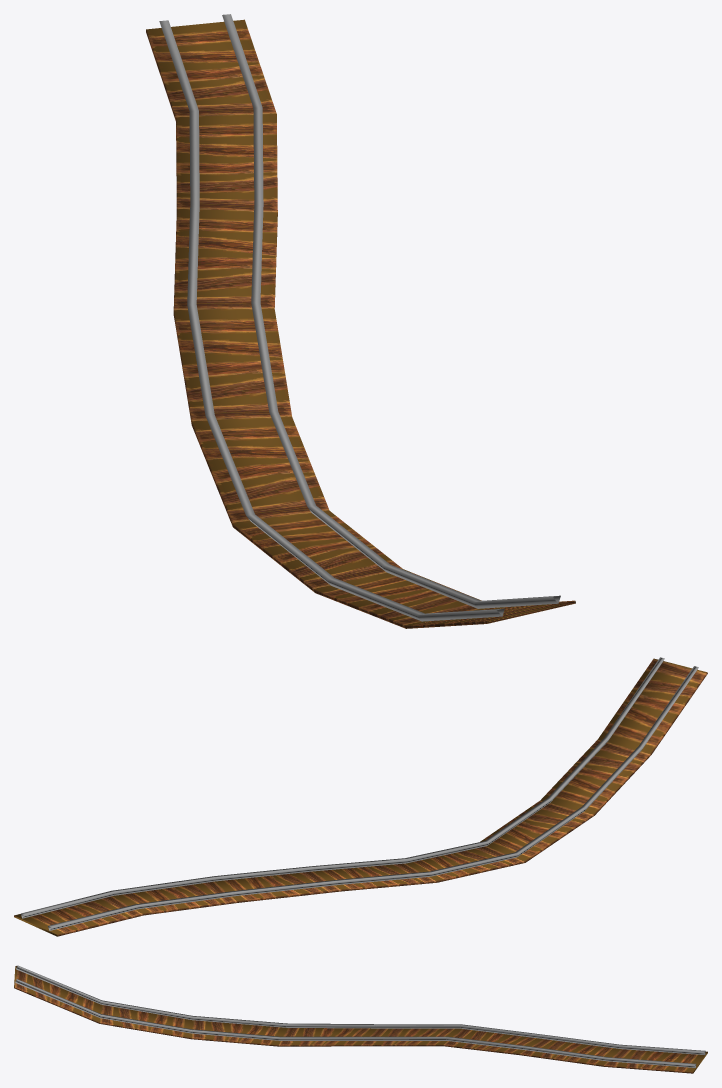
File: SWORDLIGHT20_TRACK1A.fbx
The picture shows the model from 3 angles, top to bottom: view 1: azimuth 30°, elevation 25°; view 2: azimuth 150°, elevation 25°; view 3: azimuth 270°, elevation 25°; orthographic projection. The views are drawn at different scales.
Parts seen in each view (by area): view 1: SWORDLIGHT20_TRACK1A; view 2: SWORDLIGHT20_TRACK1A; view 3: SWORDLIGHT20_TRACK1A.
Boxes of the visible parts, left/top/right/bottom form: SWORDLIGHT20_TRACK1A: left=146, top=14, right=575, bottom=628; SWORDLIGHT20_TRACK1A: left=14, top=657, right=707, bottom=936; SWORDLIGHT20_TRACK1A: left=14, top=965, right=707, bottom=1073.
Size of the model in its own units: 80567 by 20746 by 222324.
2 materials, 2 textured.
